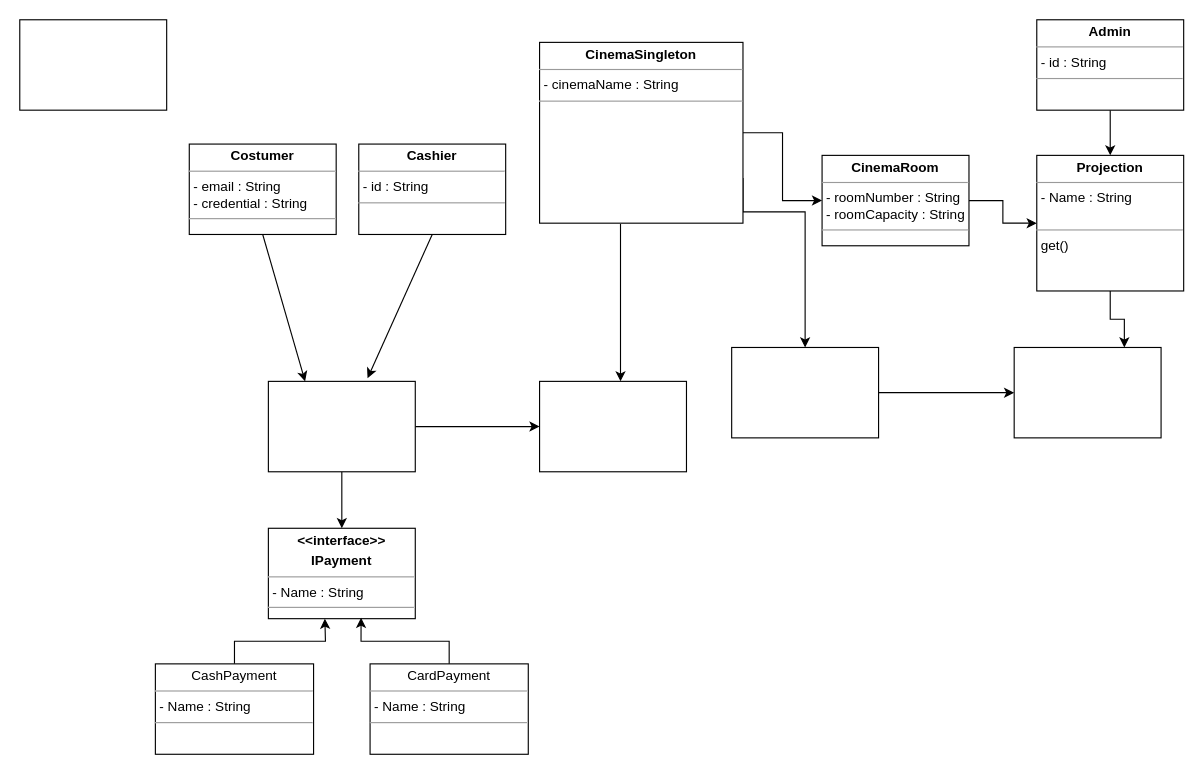
Image size: 1203x774. Some labels were removed from this diagram. The shapes that lost their labels are listed below. From the top down, each one's centre as x and y in pixels, then its label:
At (93,64): "UserSingleton + createUser() + login()".
At (805,392): "FilmCatalogue - Name : String".
At (1087,392): "Film - Name : String".
At (341,426): "SaleProcess - ticket : List - food : List".
At (612,426): "Register + getTicket()".
